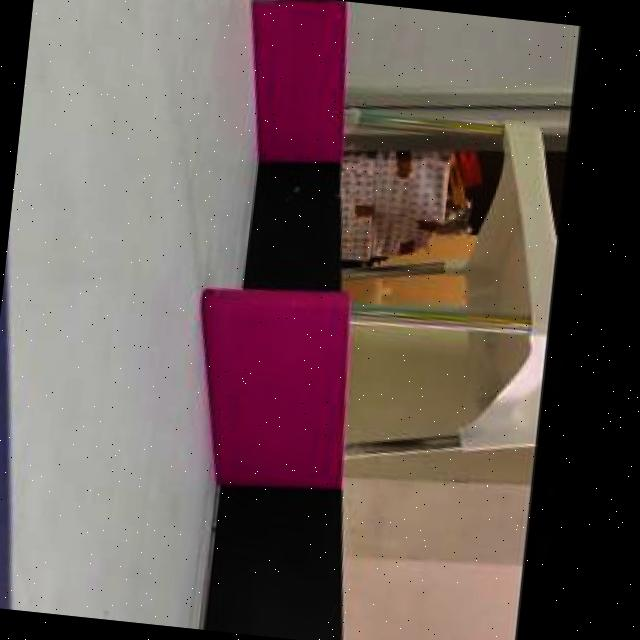xparking: (205, 284, 346, 482), (242, 0, 345, 150)
